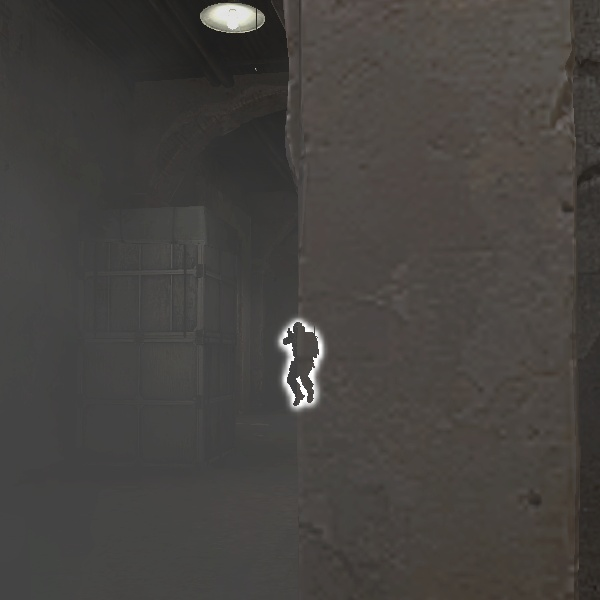ct_body: (275, 314, 322, 407)
